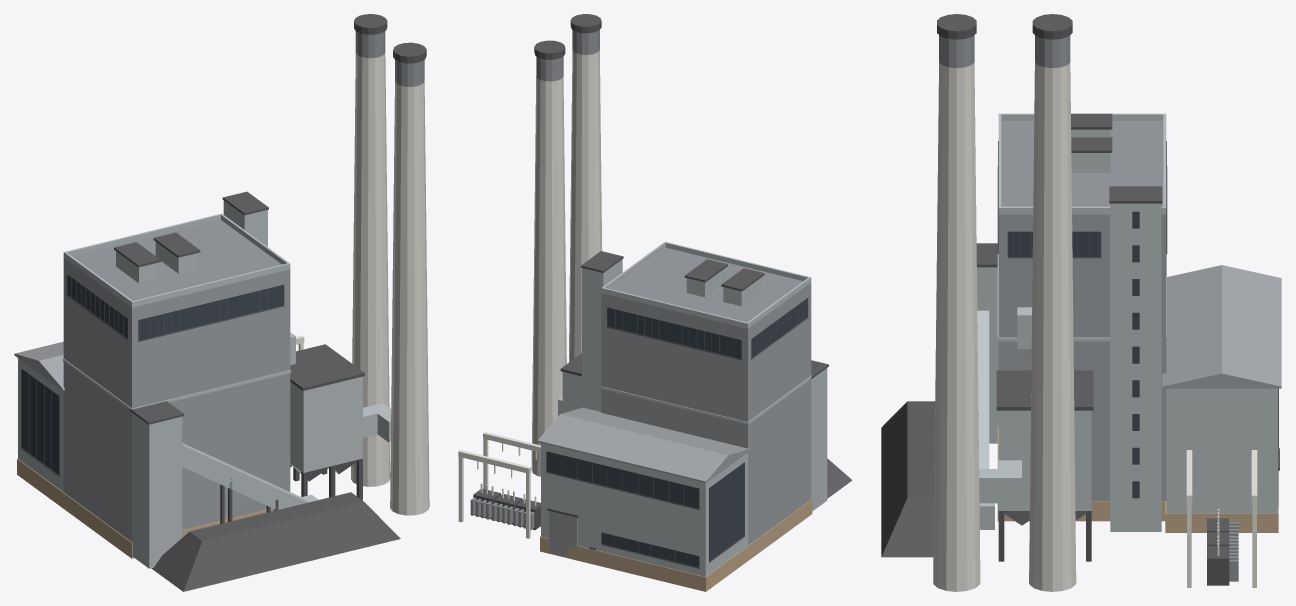
File: coal_plant.glb
3 views of the same model, side by side, from view 1: azimuth 30°, elevation 25°; view 2: azimuth 150°, elevation 25°; view 3: azimuth 270°, elevation 25° (orthographic). The views are drawn at different scales.
Parts seen in each view (by area): view 1: coal_plant; view 2: coal_plant; view 3: coal_plant.
Part boxes in pixels (box(x1,y1,x2,y2)): coal_plant: box(14, 14, 429, 591); coal_plant: box(458, 14, 852, 591); coal_plant: box(881, 14, 1281, 591).
Size of the model in its own units: 42.4 by 66.3 by 43.
